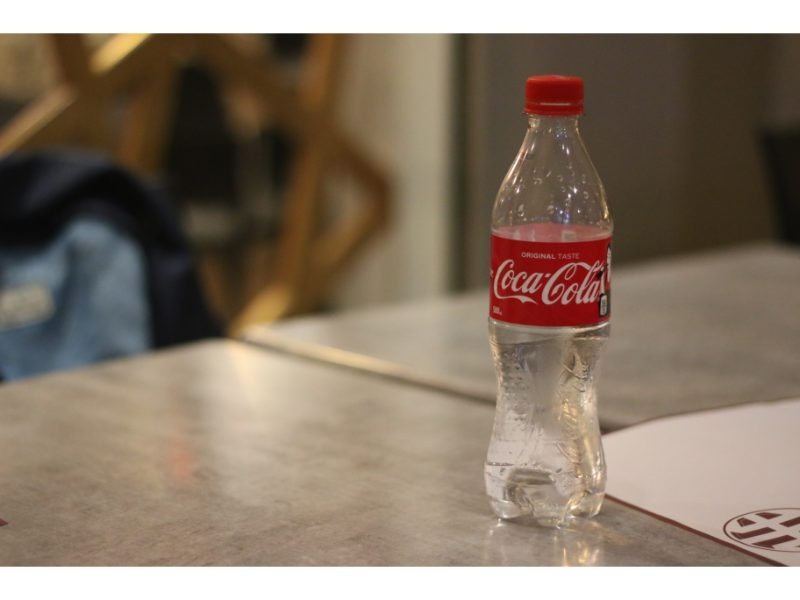PET #1: (476, 69, 614, 531)
